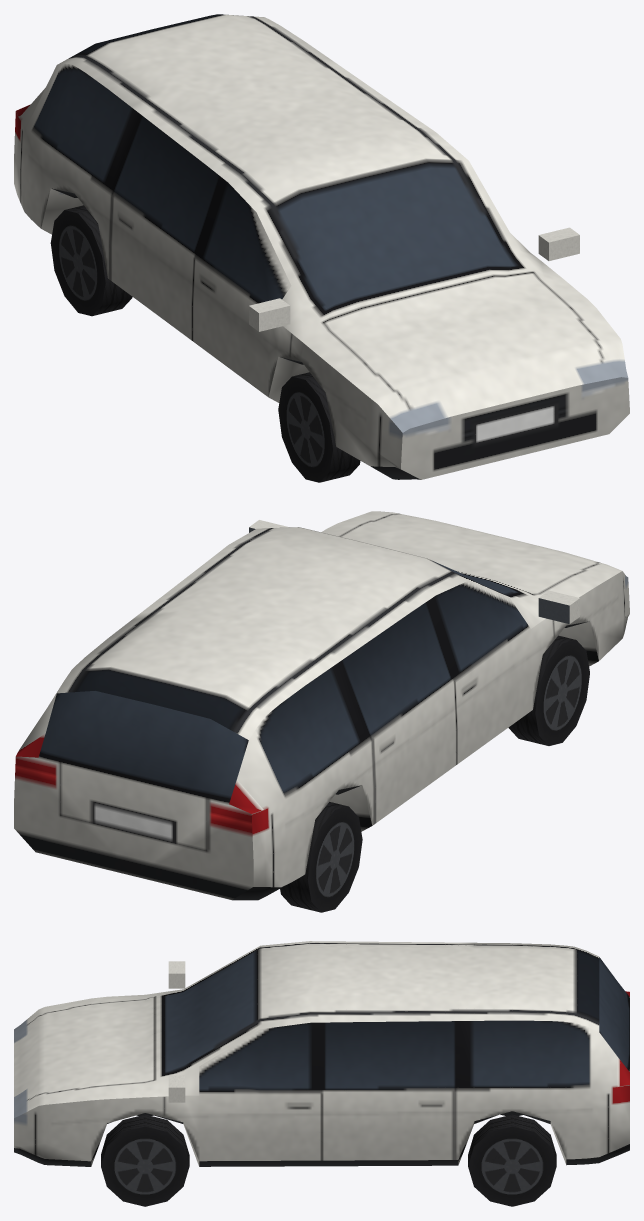
File: SM_Morin_Auto_C_v2_BiancoPerla_LOD1.fbx
3 views of the same model, one above another, from view 1: azimuth 30°, elevation 25°; view 2: azimuth 150°, elevation 25°; view 3: azimuth 270°, elevation 25° (orthographic). The views are drawn at different scales.
Parts seen in each view (by area): view 1: SM_Morin_Auto_C_v2_BiancoPerla_LOD1; view 2: SM_Morin_Auto_C_v2_BiancoPerla_LOD1; view 3: SM_Morin_Auto_C_v2_BiancoPerla_LOD1.
Boxes of the visible parts, x1,y1,x2,y2 form: SM_Morin_Auto_C_v2_BiancoPerla_LOD1: (14,14,629,482); SM_Morin_Auto_C_v2_BiancoPerla_LOD1: (14,511,629,912); SM_Morin_Auto_C_v2_BiancoPerla_LOD1: (14,941,629,1206).
Size of the model in its own units: 216 by 445 by 147.
1 material, 1 textured.
